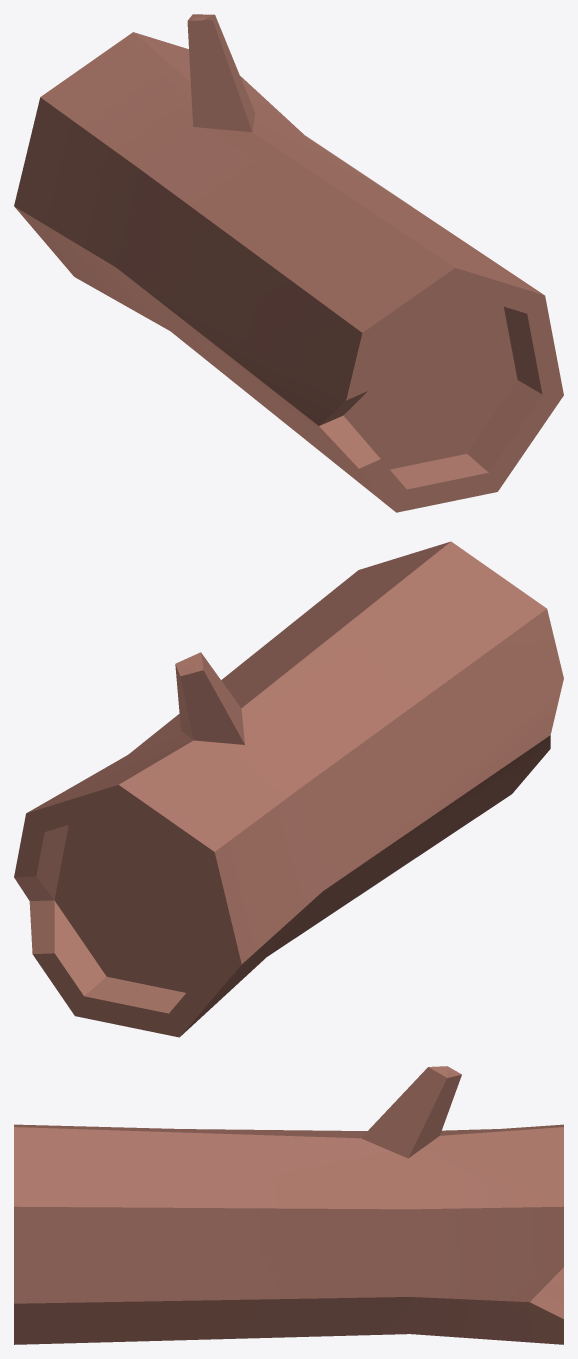
Rendered from poleno.fbx.
3 views of the same model, one above another, from view 1: azimuth 30°, elevation 25°; view 2: azimuth 150°, elevation 25°; view 3: azimuth 270°, elevation 25° (orthographic). The views are drawn at different scales.
Parts seen in each view (by area): view 1: poleno; view 2: poleno; view 3: poleno.
Part boxes in pixels (x1,y1,x2,y2): poleno: (14, 14, 563, 512); poleno: (14, 541, 563, 1037); poleno: (14, 1066, 563, 1344).
Bounding box in the file's own units: 0.3857 × 0.4929 × 0.9445.
1 material, 1 textured.
